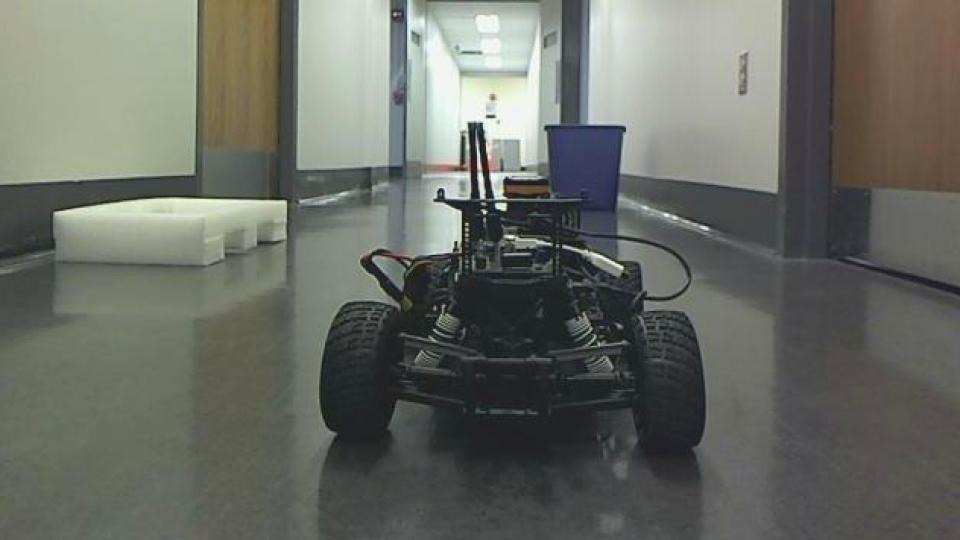car: (316, 120, 711, 456)
